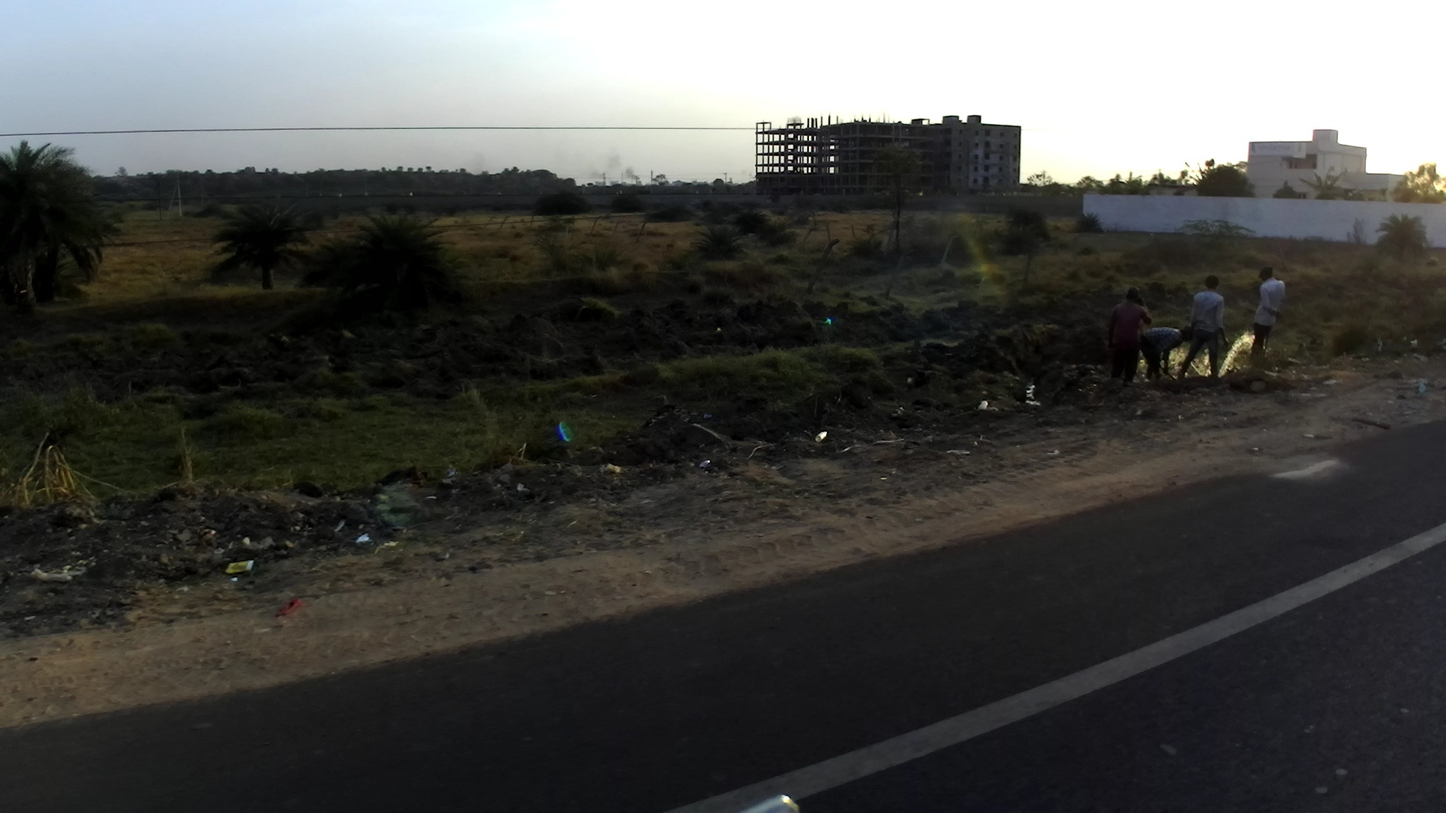person: (1179, 274, 1236, 379), (1103, 285, 1153, 390), (1250, 265, 1289, 373), (1141, 325, 1196, 384)
